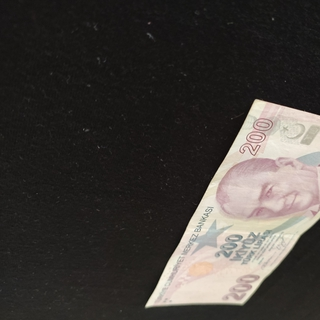200TLFront: (142, 98, 320, 308)
